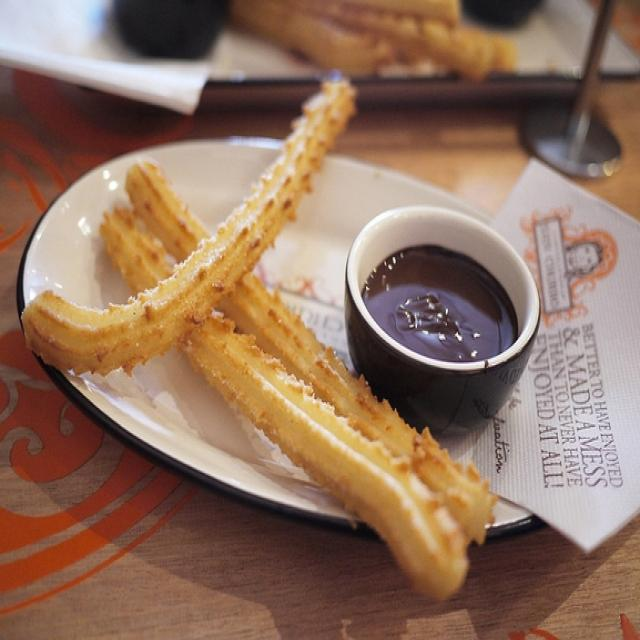炸货点心: (28, 28, 598, 608)
